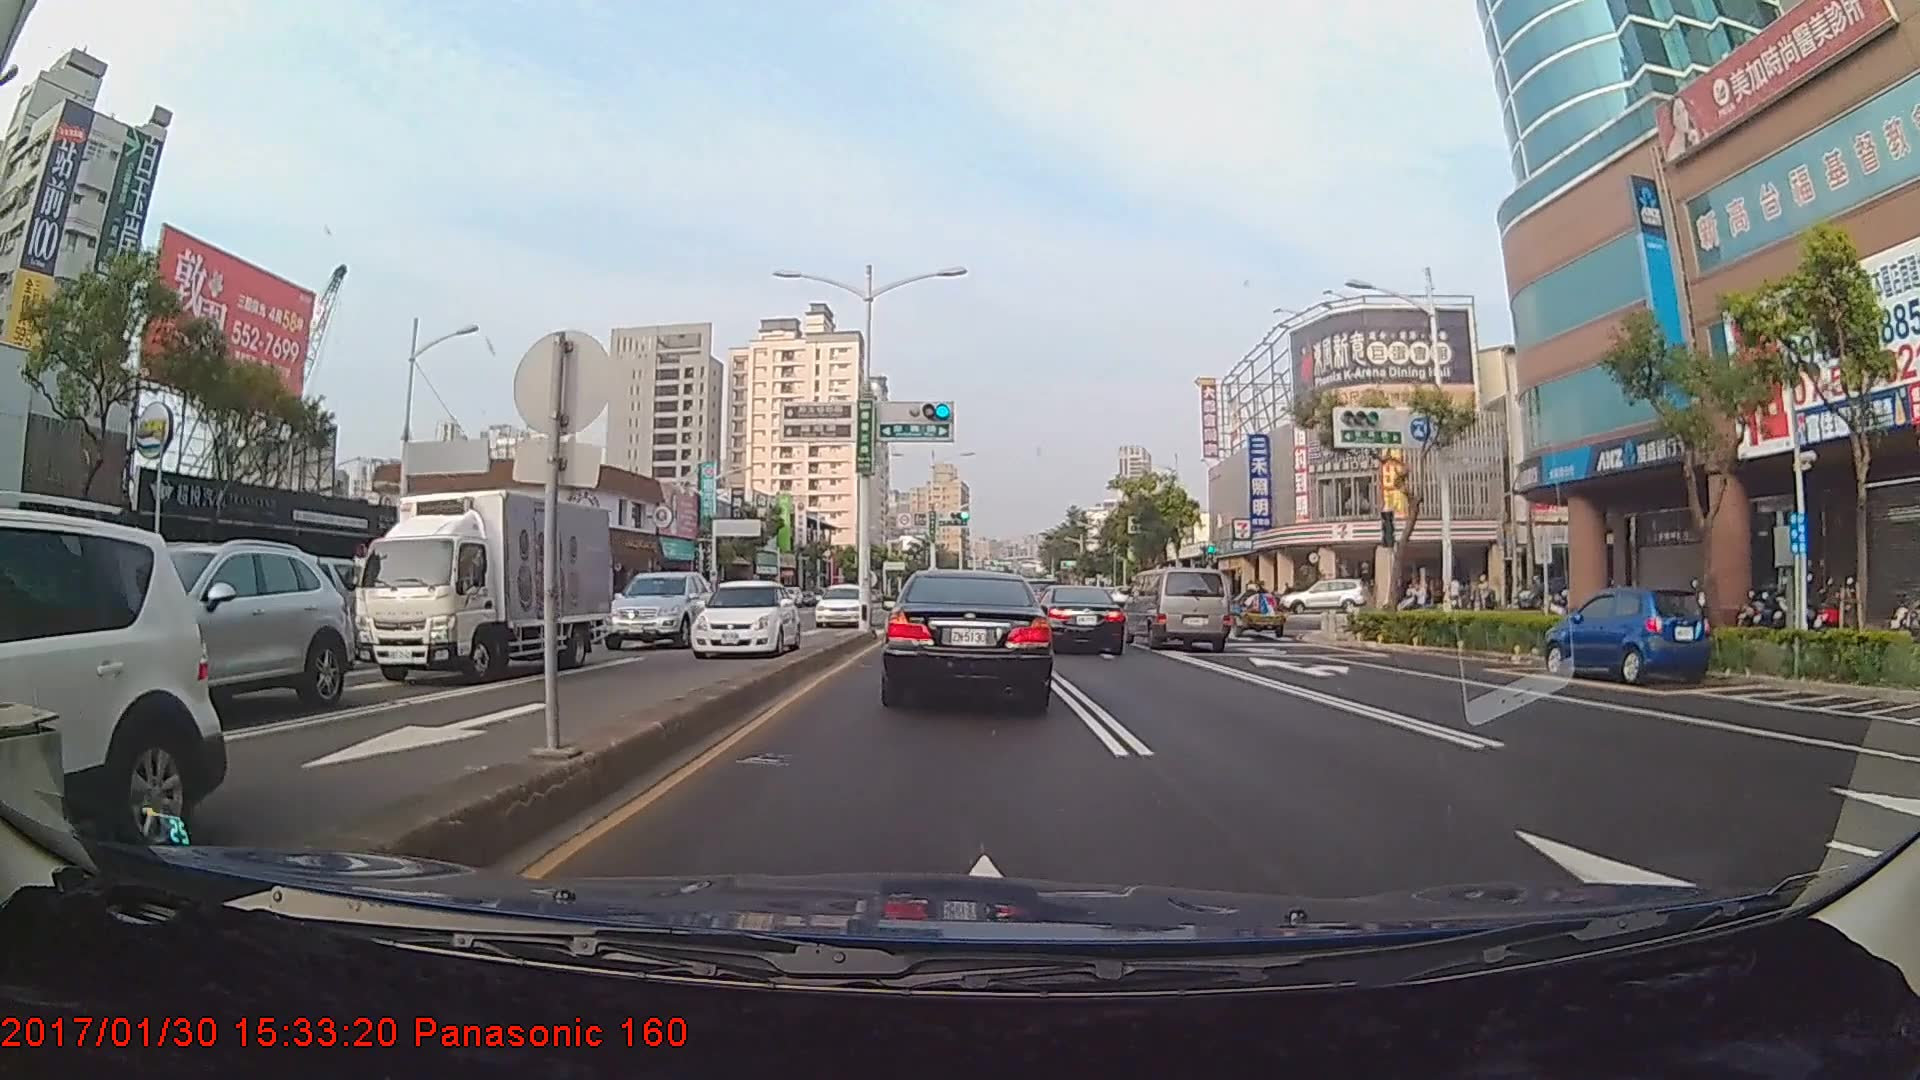vehicle: (0, 512, 210, 862), (66, 538, 355, 716), (353, 489, 615, 682), (884, 567, 1054, 709), (224, 554, 368, 673), (1543, 584, 1708, 686), (595, 566, 712, 649), (1124, 566, 1232, 651), (687, 579, 799, 658), (1034, 585, 1127, 654), (1282, 578, 1367, 615), (810, 582, 866, 628)
